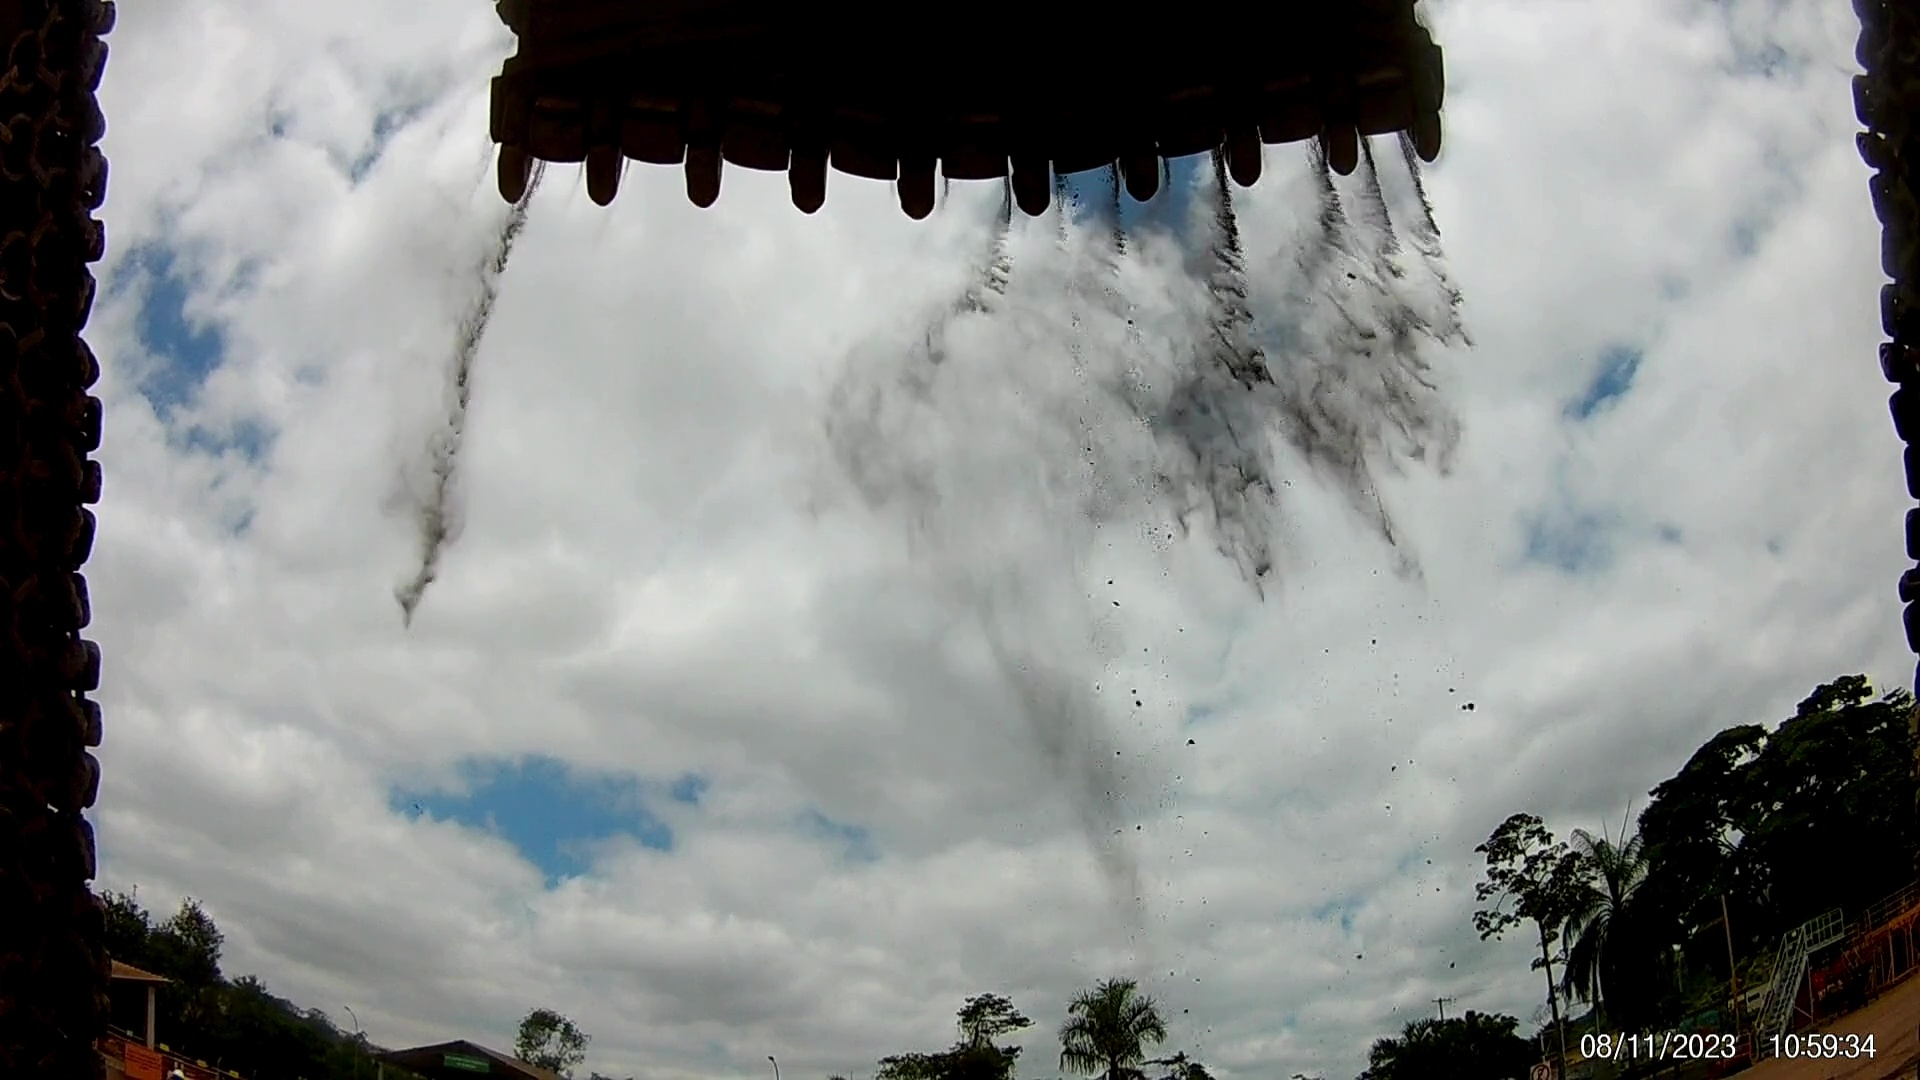FPS: (885, 150, 951, 251), (781, 131, 837, 225), (1394, 98, 1447, 174), (1124, 124, 1168, 204), (487, 150, 545, 210), (1216, 123, 1280, 174), (1007, 148, 1054, 218), (587, 141, 626, 218), (1320, 117, 1364, 185), (687, 150, 725, 203)
